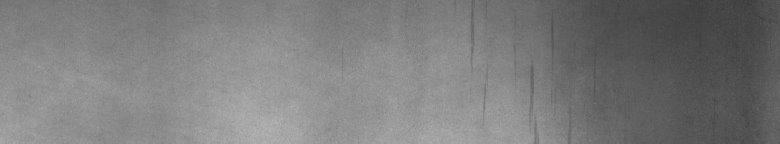ka: (471, 4, 556, 136)
